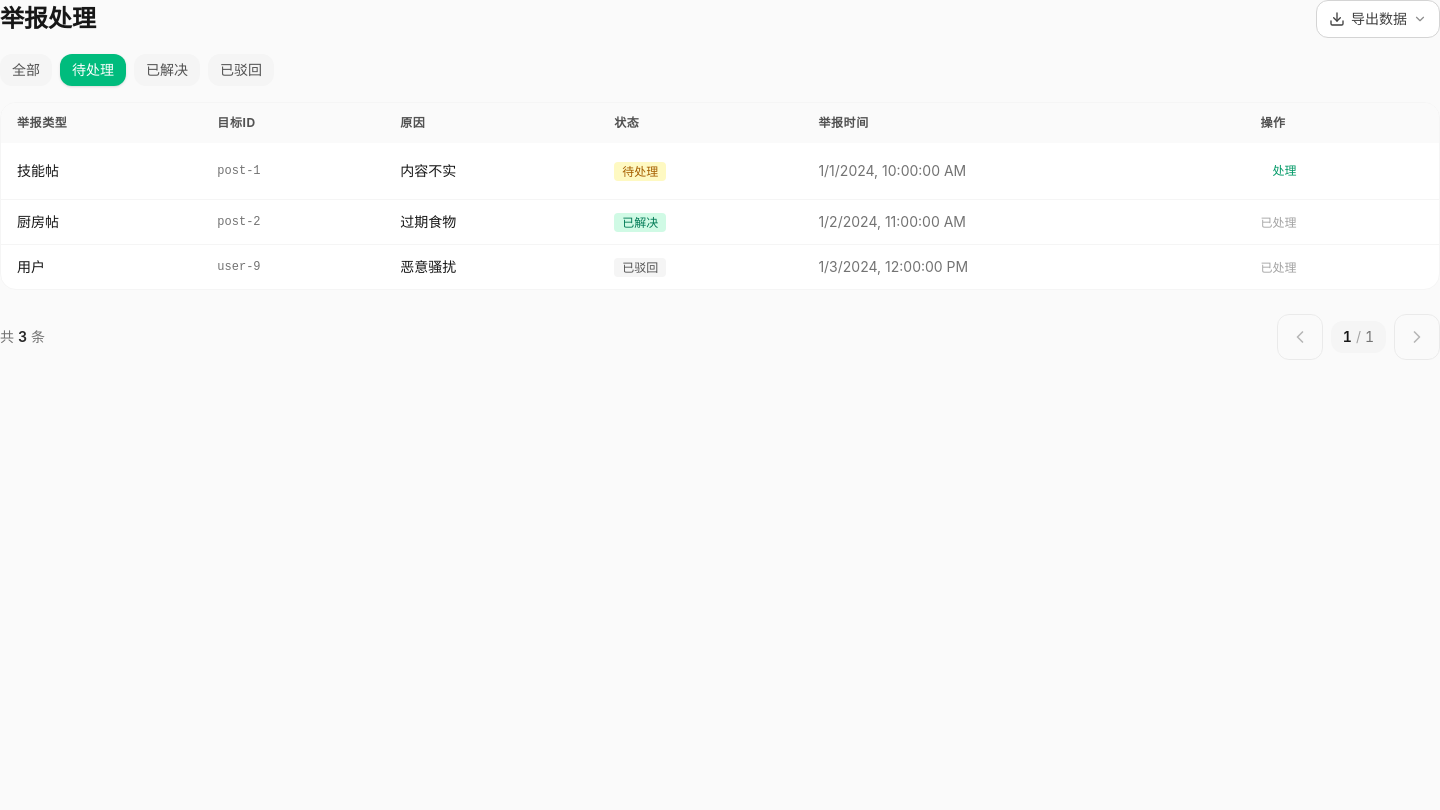
it: ReportManagement 处理弹窗 › 输入备注后"确认处理"按钮启用
Expected: the text "内容不实" is shown, [384,143,598,200]
Click the button "处理" at (1284, 171), box [1260,155,1308,187]
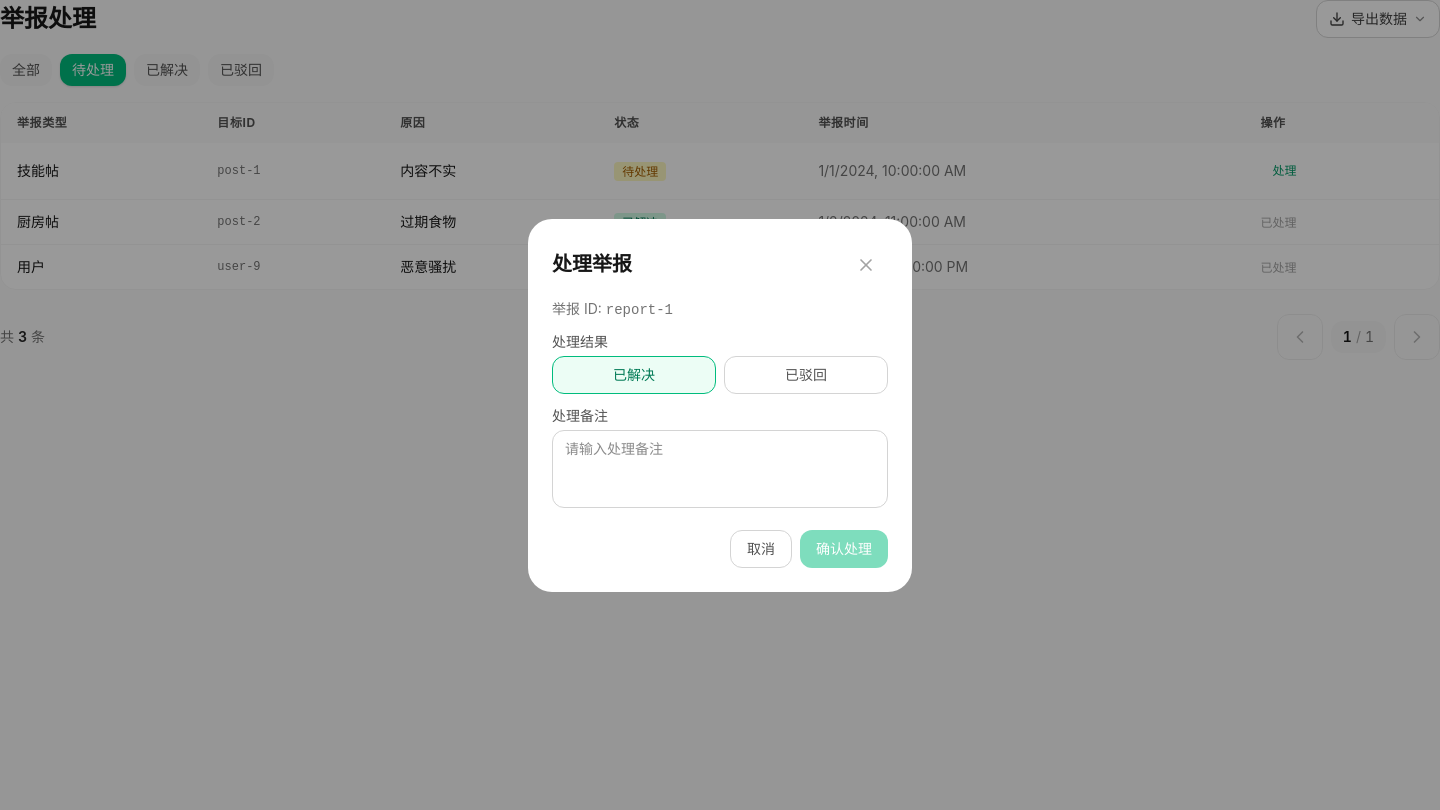
Type "已核实并处理" into the text box with placeholder "请输入处理备注" at (720, 468), box [552,430,888,508]
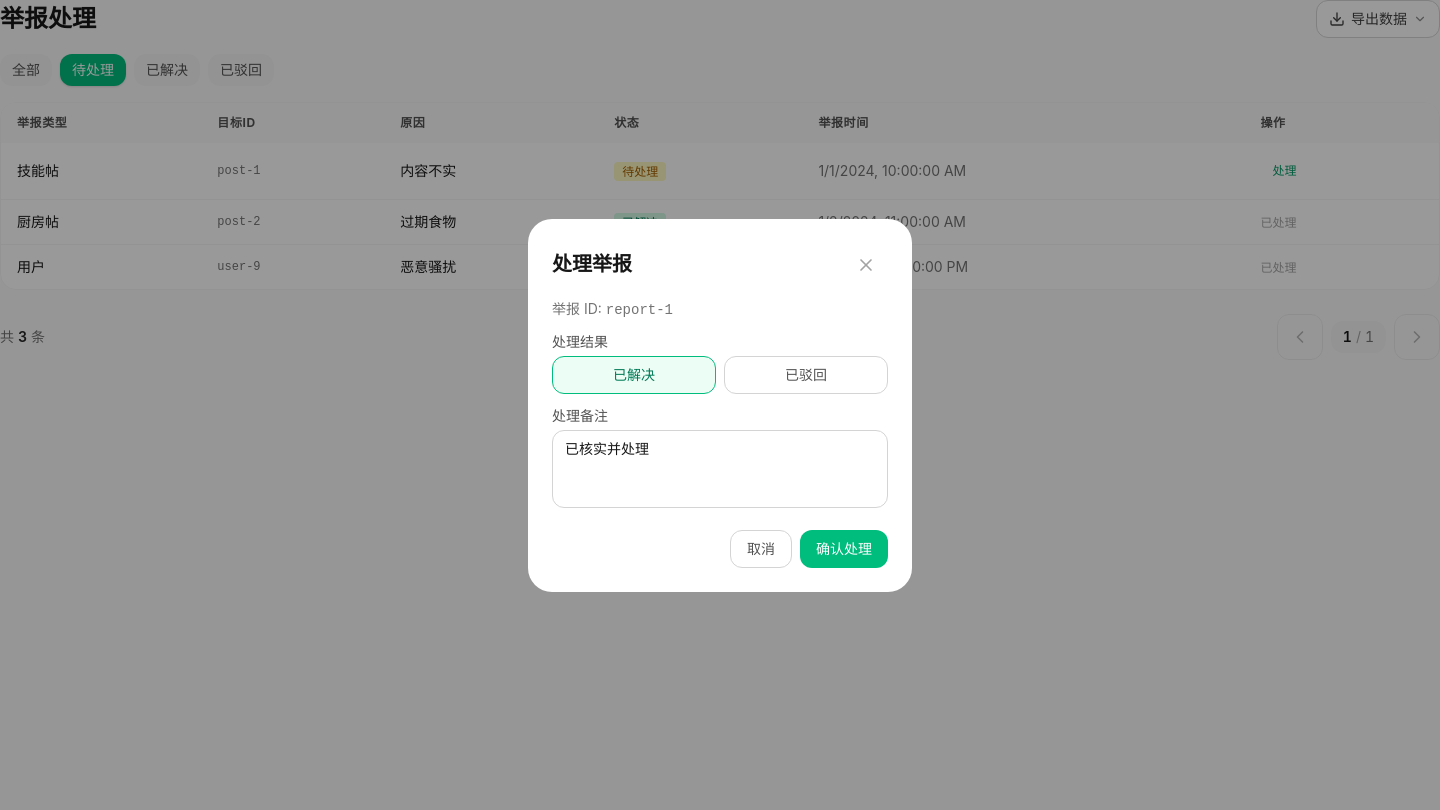
Expected: the button "确认处理" is enabled, [800,530,888,568]
